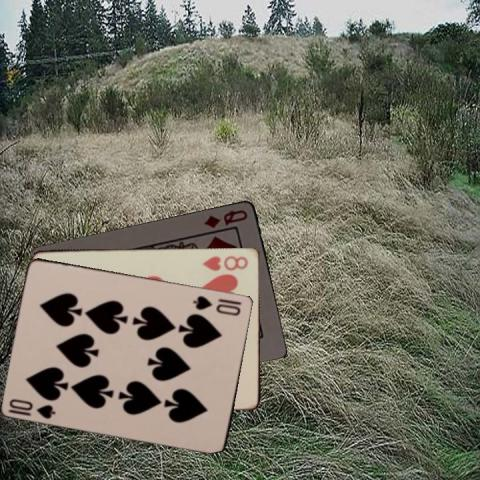10s: (190, 292, 243, 317), (7, 395, 57, 420)
8h: (200, 252, 250, 272)
Qd: (202, 206, 250, 229)
